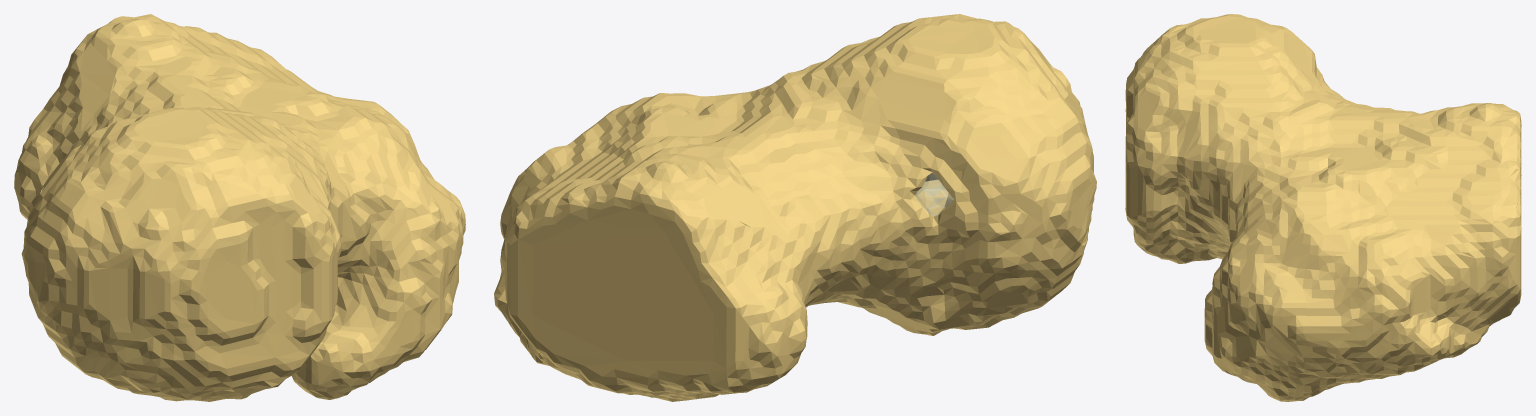
The model's file is prompt.glb.
The picture shows the model from 3 angles, left to right: view 1: azimuth 30°, elevation 25°; view 2: azimuth 150°, elevation 25°; view 3: azimuth 270°, elevation 25°; orthographic projection. The views are drawn at different scales.
Parts seen in each view (by area): view 1: world; view 2: world; view 3: world.
Boxes of the visible parts, left/top/right/bottom form: world: left=14, top=14, right=465, bottom=401; world: left=494, top=14, right=1096, bottom=401; world: left=1125, top=14, right=1521, bottom=401.
Size of the model in its own units: 0.8786 by 0.6118 by 0.7842.
